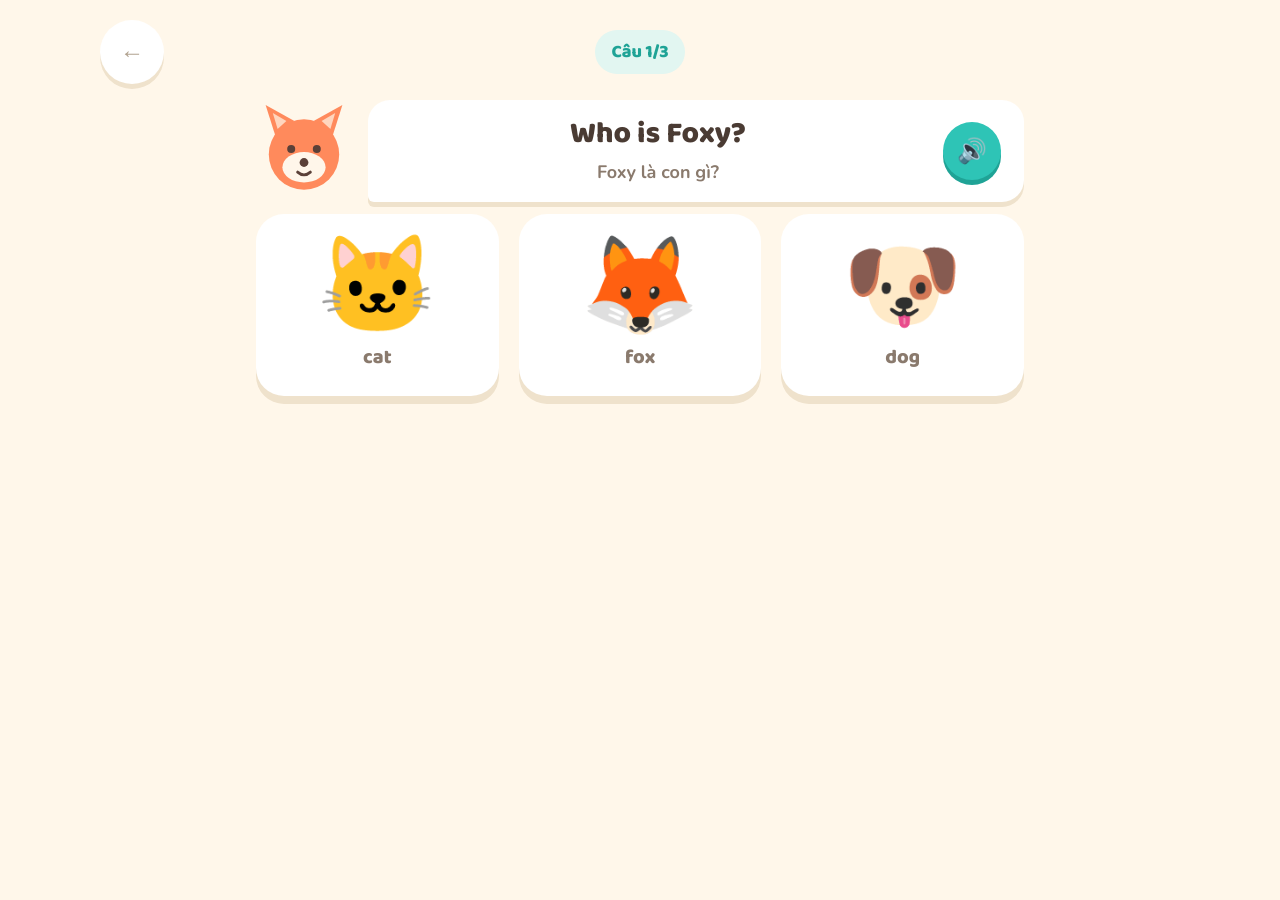
answering all three questions correctly on the first try gives 3 stars and saves progress
Click the button "🦊 fox": (640, 304) [519,214,761,396]
Wait 900 ms
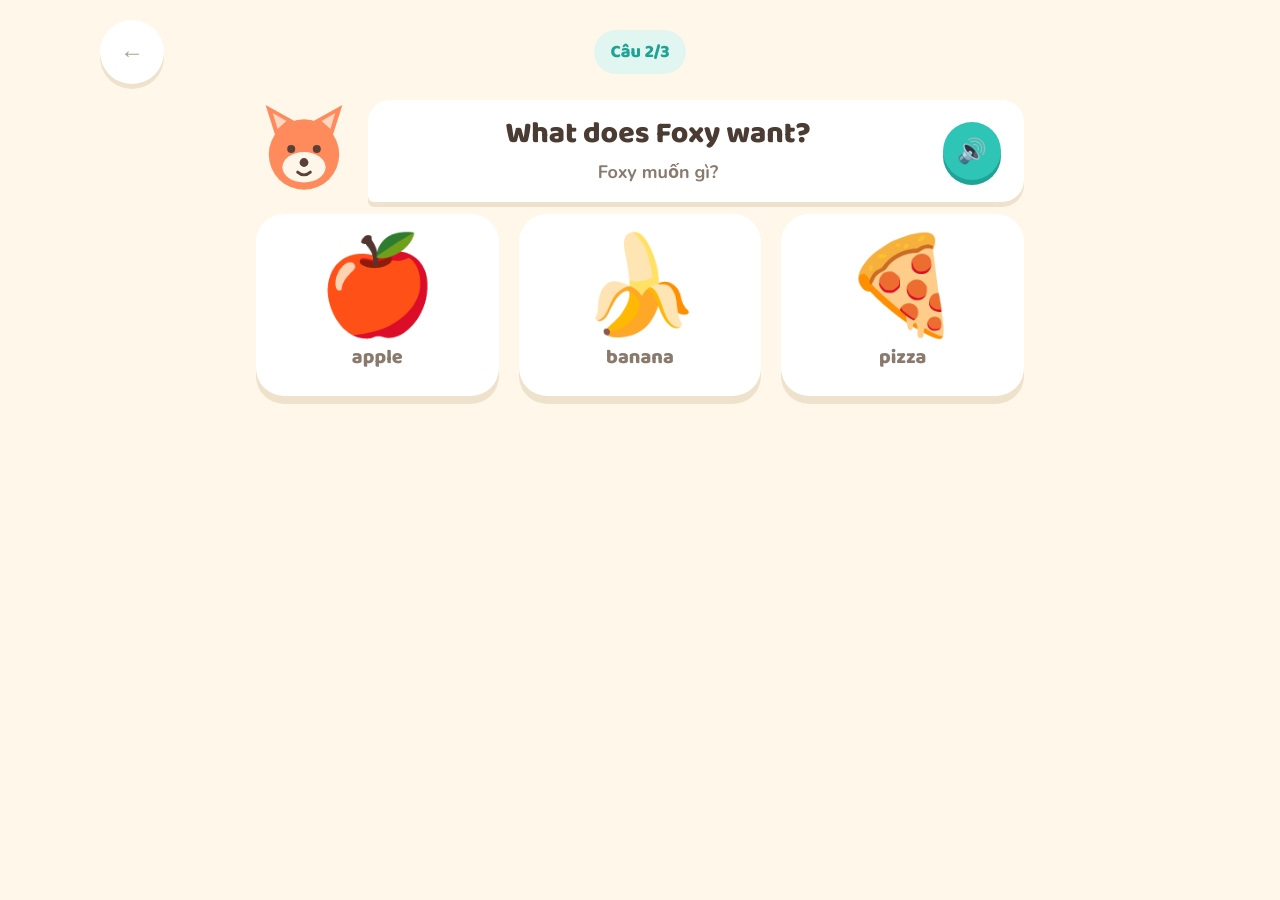
Click the button "🍎 apple": (377, 304) [256,214,499,396]
Wait 900 ms
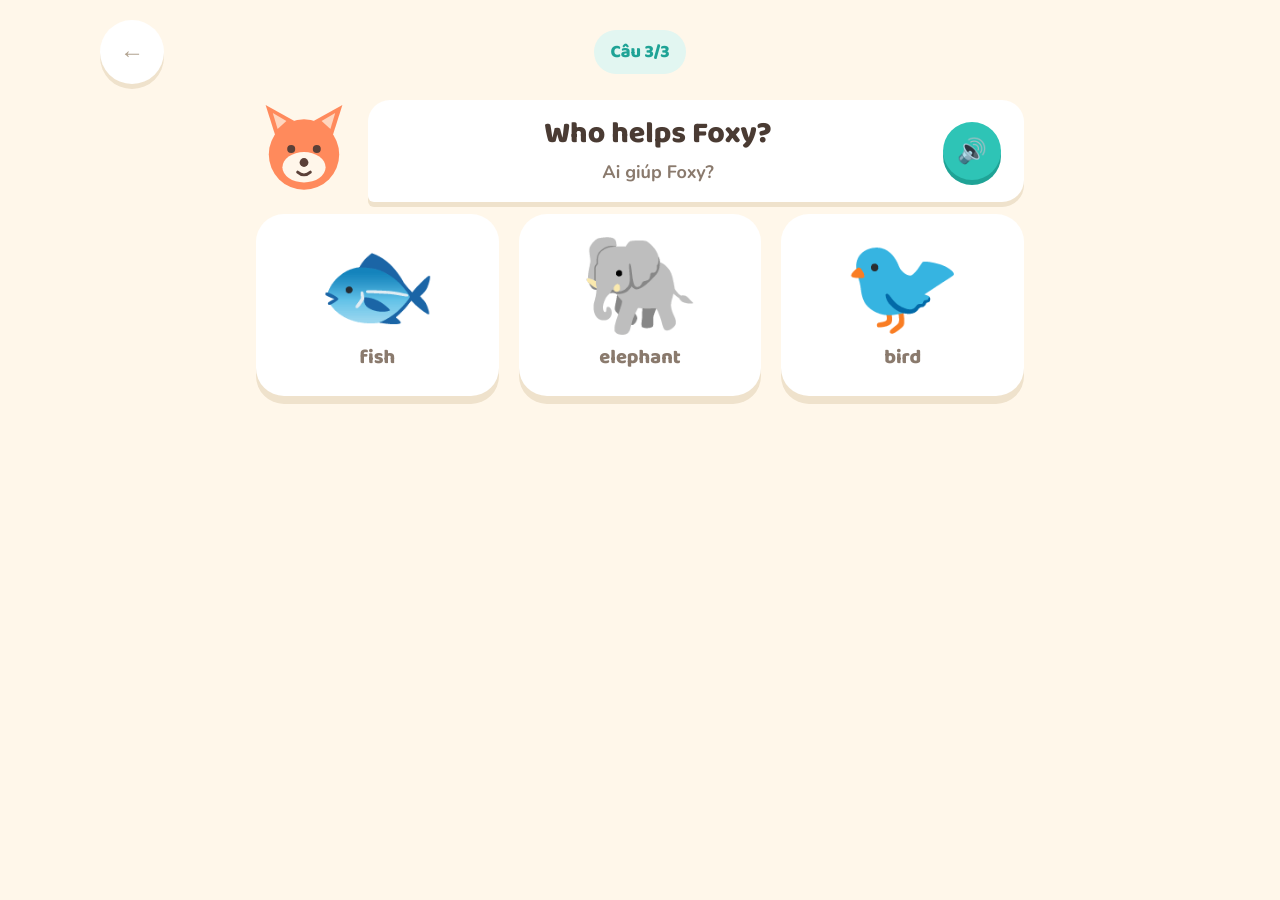
Click the button "🐦 bird": (903, 304) [781,214,1024,396]
Wait 900 ms
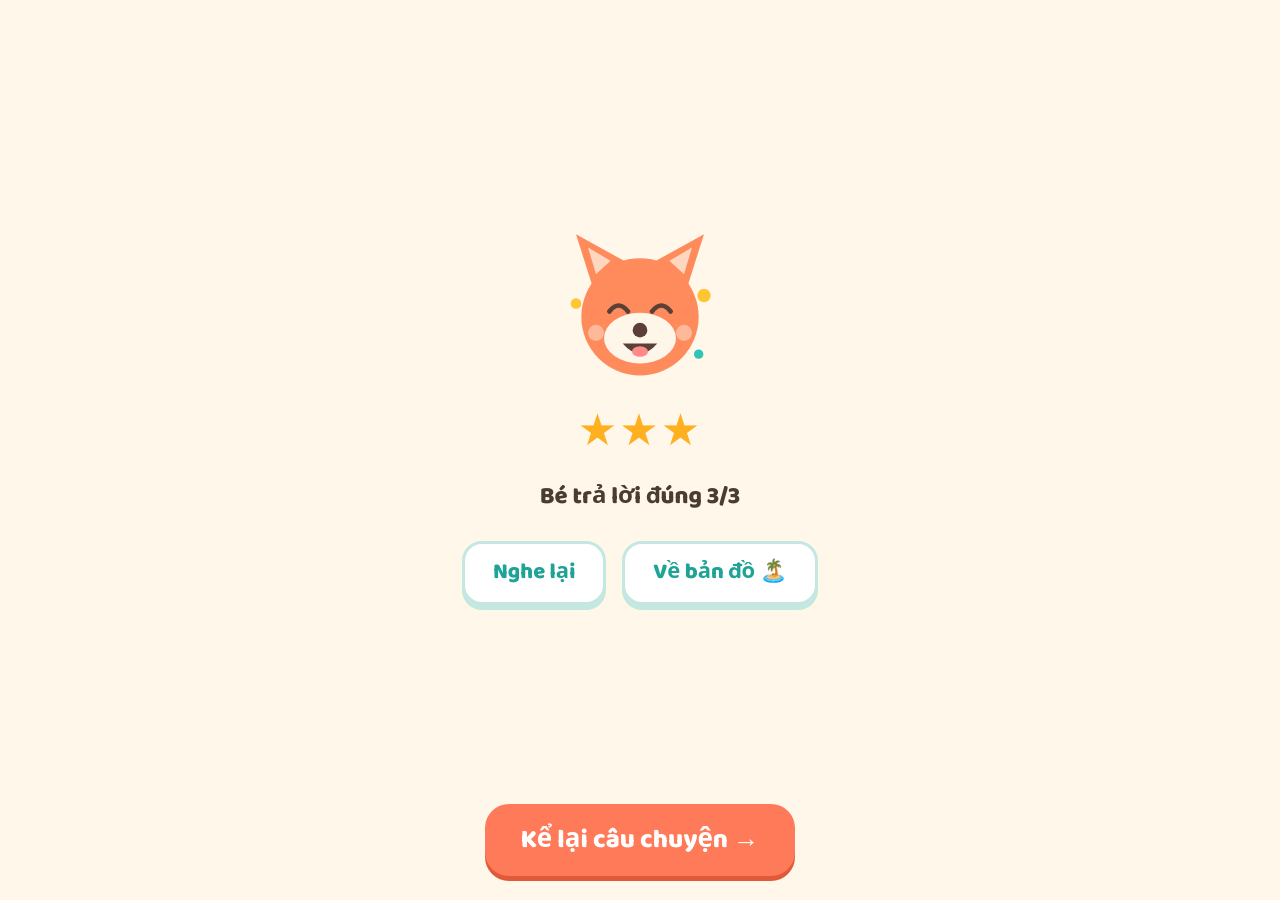
Now the number of elements with test id "star-filled" is 3, box [578,408,619,452]; [619,408,661,452]; [661,408,702,452]
Now the text "Bé trả lời đúng 3/3" is shown, box [540,480,740,512]
